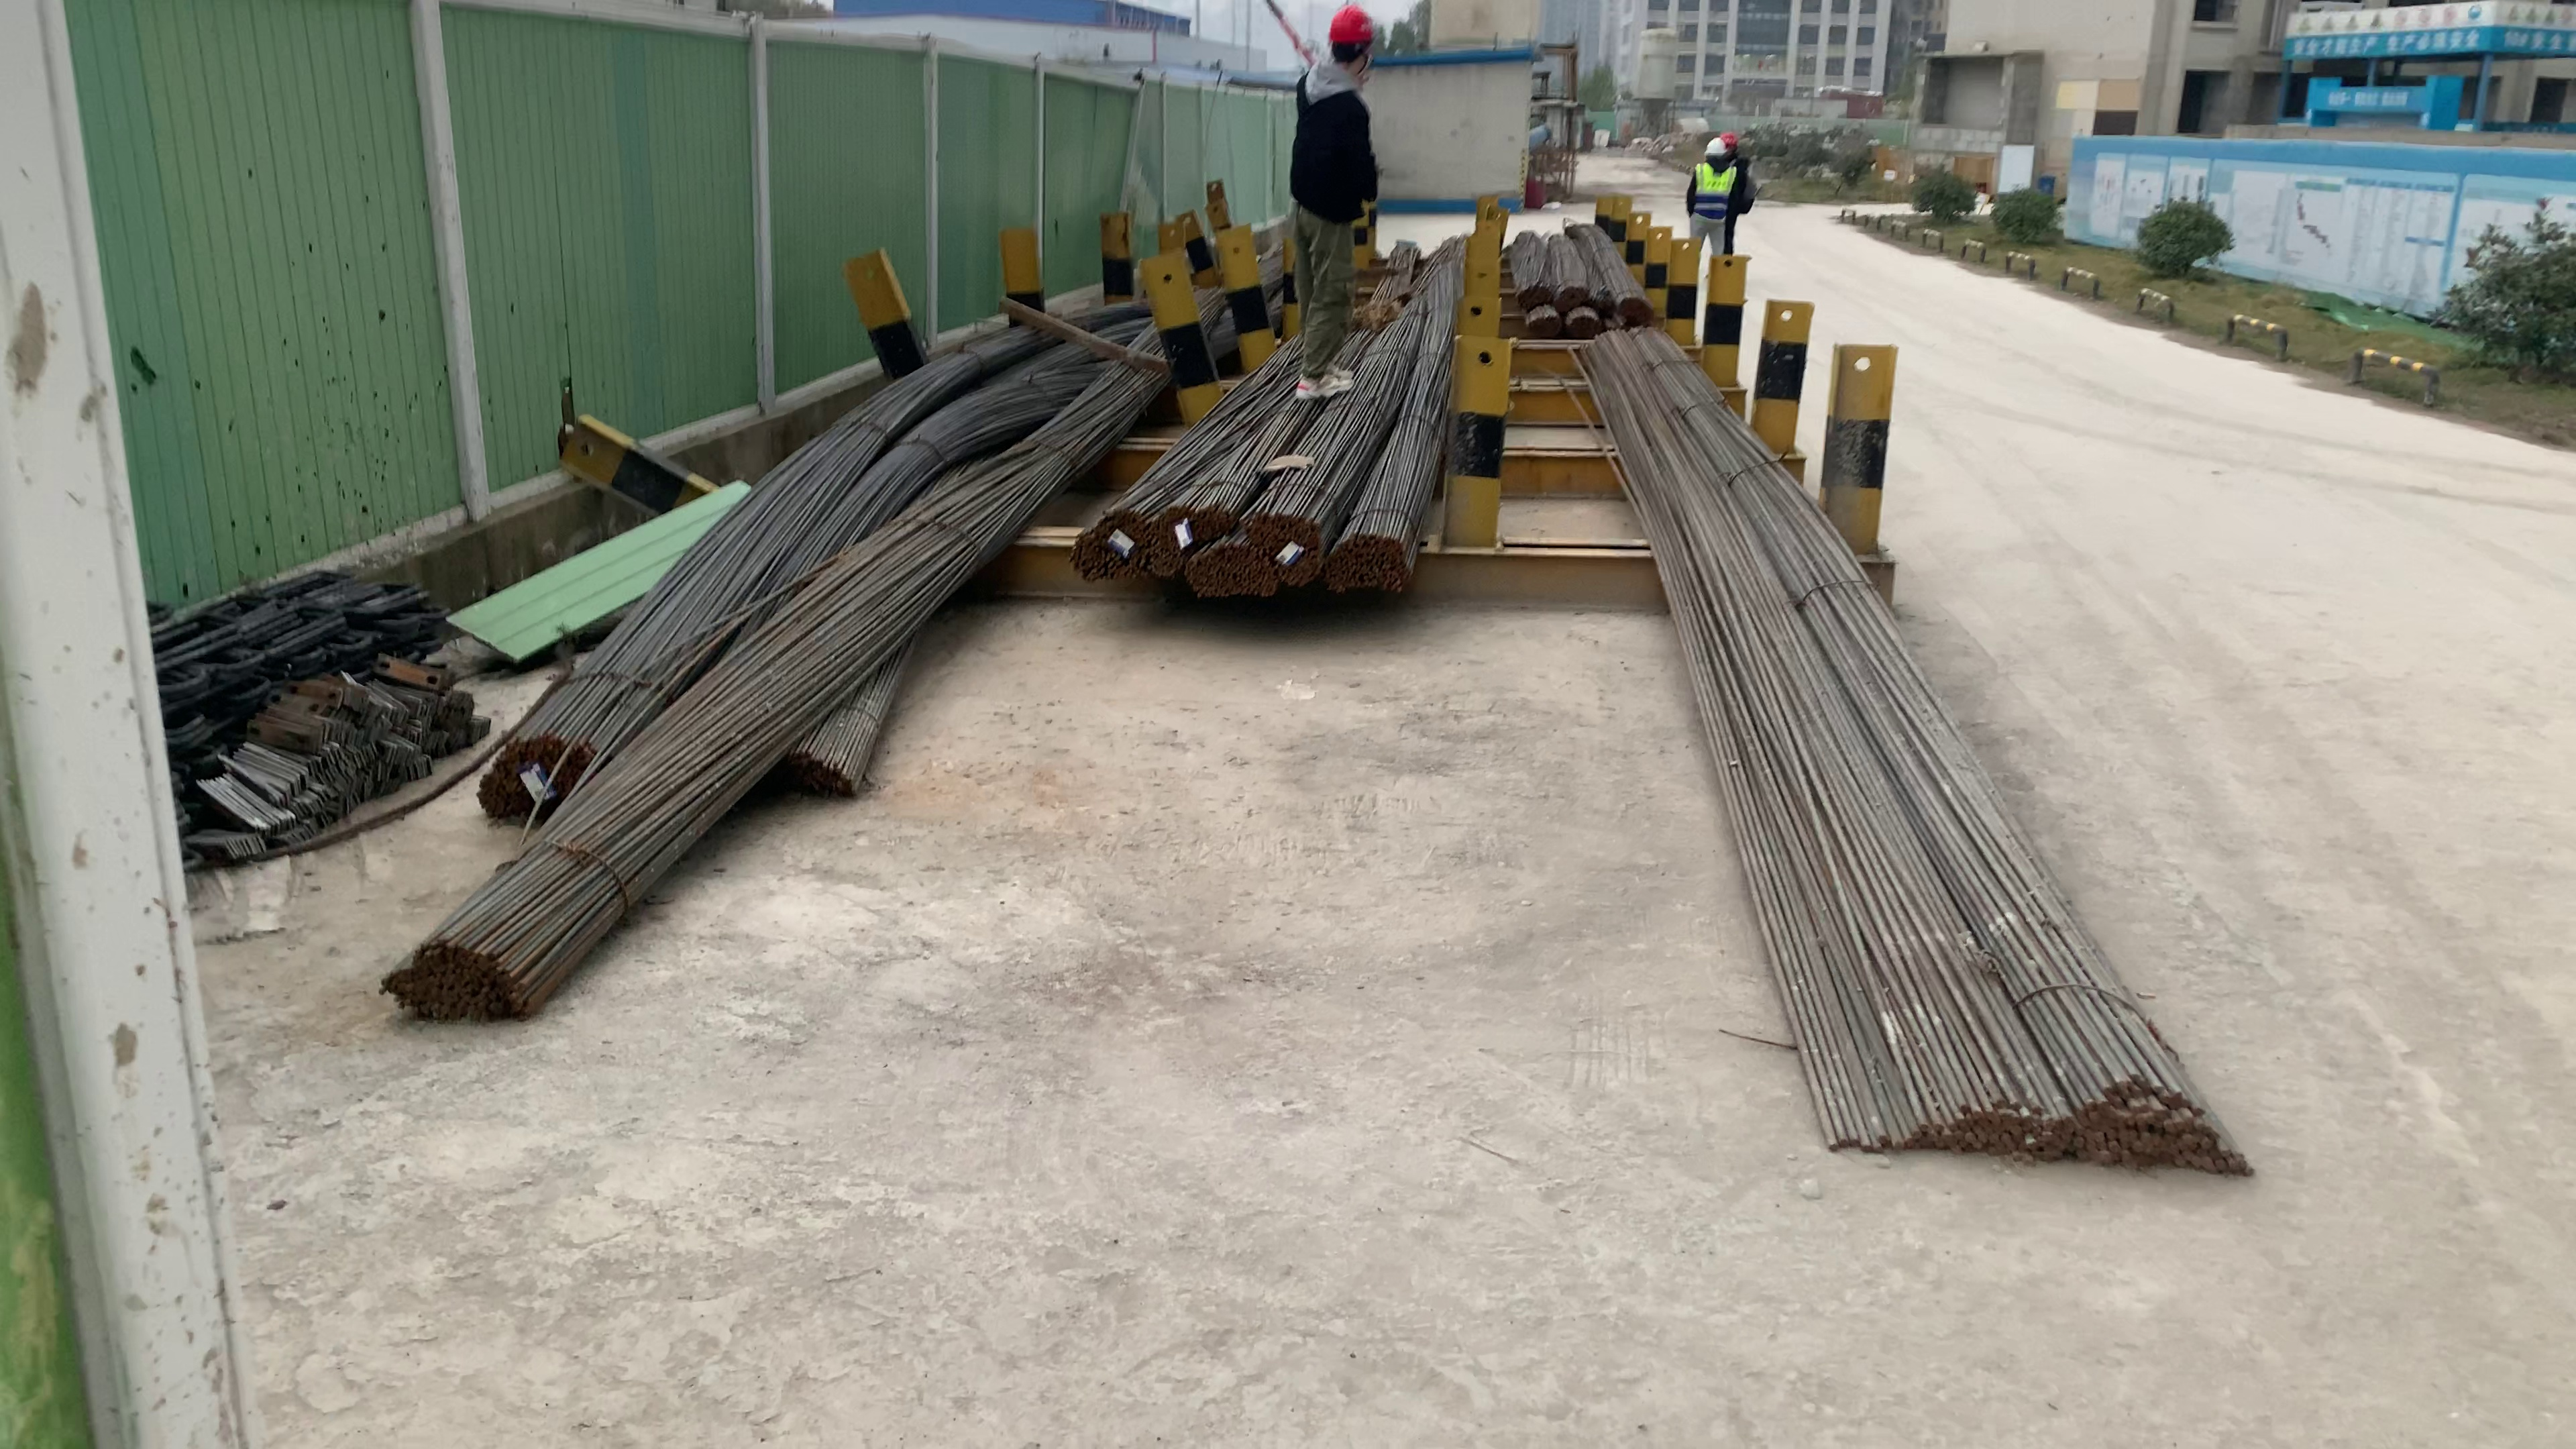rebar: (1826, 1079, 2254, 1184), (384, 934, 533, 1033), (460, 736, 596, 810), (1327, 536, 1421, 598), (1247, 508, 1316, 586), (1154, 506, 1231, 566), (1069, 513, 1148, 571), (761, 747, 851, 794), (1191, 552, 1269, 602), (1619, 292, 1656, 322), (1518, 276, 1552, 303), (1527, 308, 1560, 334), (1571, 311, 1606, 334), (1562, 281, 1589, 308)
